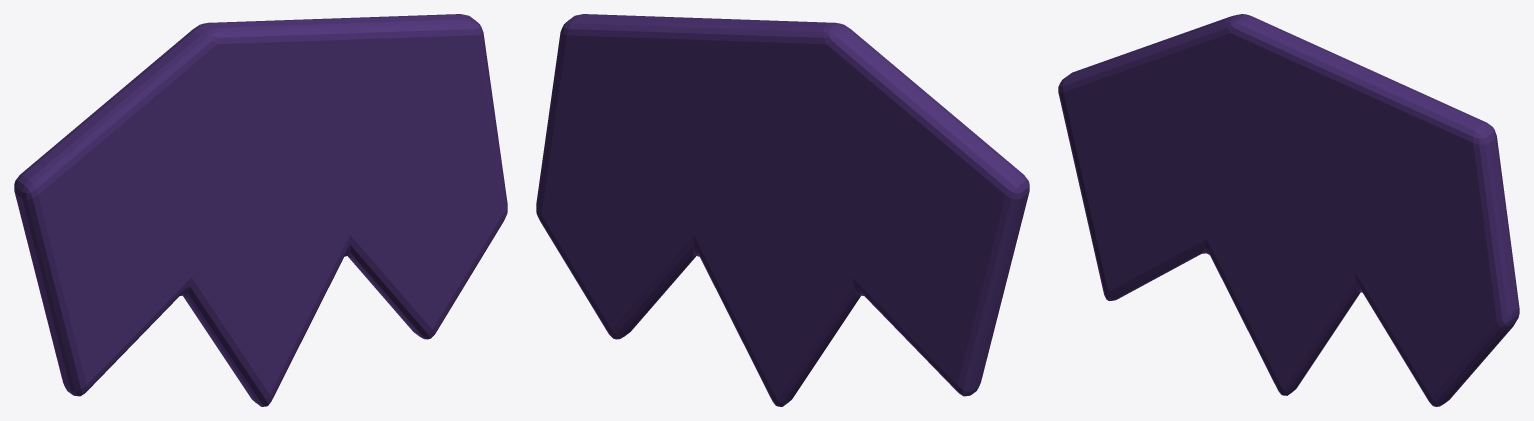
File: mat_wing.glb
The picture shows the model from 3 angles, left to right: view 1: azimuth 30°, elevation 25°; view 2: azimuth 150°, elevation 25°; view 3: azimuth 330°, elevation 25°; orthographic projection. The views are drawn at different scales.
Parts seen in each view (by area): view 1: _profile; view 2: _profile; view 3: _profile.
Part boxes in pixels (x1,y1,x2,y2): _profile: (14,14,507,406); _profile: (536,14,1029,406); _profile: (1058,14,1519,406).
Bounding box in the file's own units: 0.8926 × 0.6865 × 0.06.
